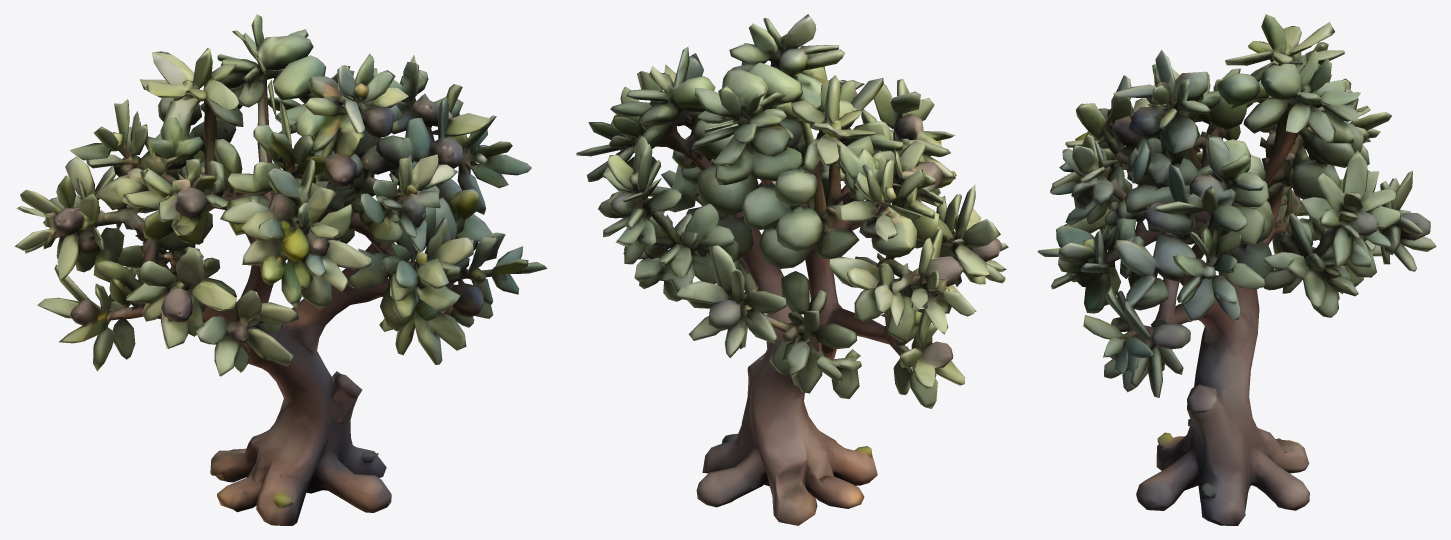
The model's file is olive_raw.glb.
3 renders of one model, left to right at view 1: azimuth 30°, elevation 25°; view 2: azimuth 150°, elevation 25°; view 3: azimuth 270°, elevation 25°, orthographic.
Visible parts, largest first — view 1: tripo_node_e76dacef-ef4b-44cd-bc6b-4eee8d0b7fe0; view 2: tripo_node_e76dacef-ef4b-44cd-bc6b-4eee8d0b7fe0; view 3: tripo_node_e76dacef-ef4b-44cd-bc6b-4eee8d0b7fe0.
Part boxes in pixels (x1,y1,x2,y2): tripo_node_e76dacef-ef4b-44cd-bc6b-4eee8d0b7fe0: (14, 14, 547, 525); tripo_node_e76dacef-ef4b-44cd-bc6b-4eee8d0b7fe0: (576, 14, 1008, 525); tripo_node_e76dacef-ef4b-44cd-bc6b-4eee8d0b7fe0: (1037, 14, 1436, 525).
Size of the model in its own units: 1 by 0.9605 by 0.7817.
1 material, 1 textured.
